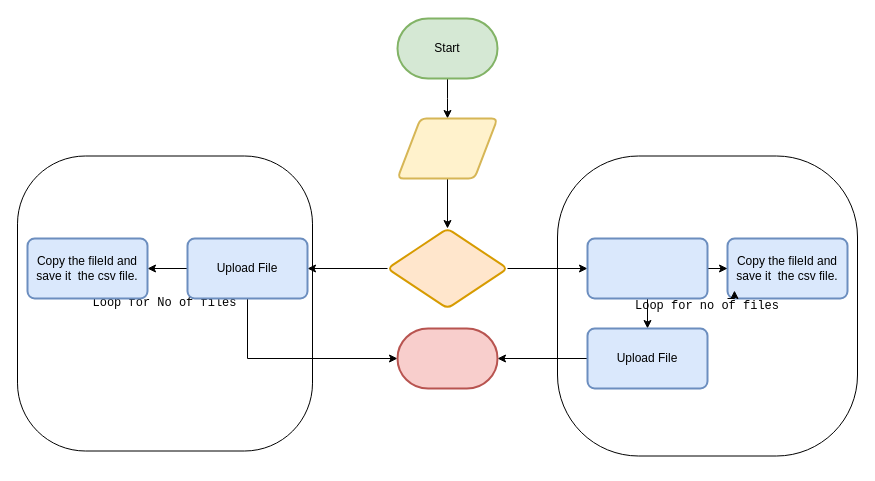
The diagram is 875 pixels wide and 481 high, and some of its shapes have lost their labels. The box of each missing label's shape, as (x1, y1, x2, y2) in pixels:
End: (396, 327, 498, 389)
Get Upload Token: (586, 237, 708, 299)
Internal/External: (386, 227, 508, 309)
No of Files: (396, 117, 498, 179)
